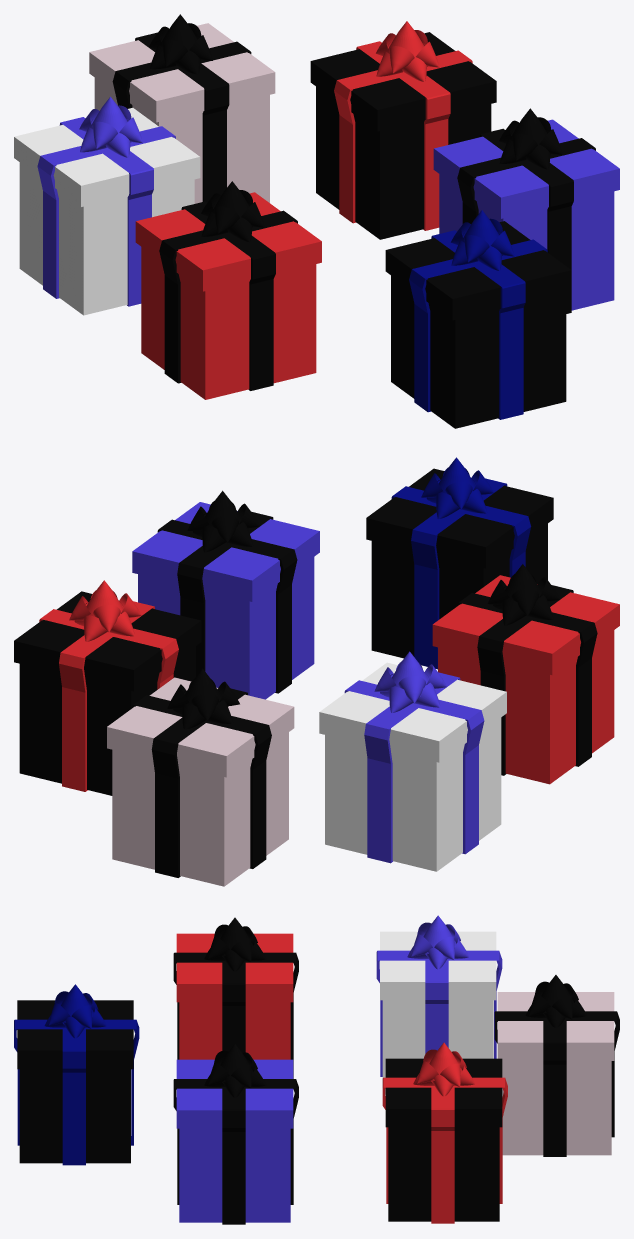
3 renders of one model, top to bottom at view 1: azimuth 30°, elevation 25°; view 2: azimuth 150°, elevation 25°; view 3: azimuth 270°, elevation 25°, orthographic. The views are drawn at different scales.
Visible parts, largest first — view 1: box.004, box.005, box.001, box.002, box.003, box, link.005, link.004, link.001, link.002, link, link.003 (+6 smaller); view 2: box, box.002, box.004, box.003, box.001, box.005, link.002, link, link.005, link.001, link.003, link.004 (+6 smaller); view 3: box.003, box.001, box.005, box, box.002, box.004, link.001, link.005, link.003, link, link.004, link.002 (+6 smaller).
Boxes of the visible parts, <box> form: box.004: <box>135,192,321,399</box>; box.005: <box>385,221,571,428</box>; box.001: <box>310,32,496,239</box>; box.002: <box>14,107,200,315</box>; box.003: <box>433,119,619,310</box>; box: <box>89,23,275,203</box>; link.005: <box>409,230,547,419</box>; link.004: <box>159,201,297,390</box>; link.001: <box>334,41,472,230</box>; link.002: <box>37,117,175,306</box>; link: <box>112,32,251,202</box>; link.003: <box>457,128,595,313</box>; box: <box>107,677,294,886</box>; box.002: <box>319,662,506,871</box>; box.004: <box>432,575,619,784</box>; box.003: <box>132,502,319,699</box>; box.001: <box>14,591,201,795</box>; box.005: <box>366,468,553,658</box>; link.002: <box>344,672,484,863</box>; link: <box>132,688,271,877</box>; link.005: <box>391,478,531,669</box>; link.001: <box>39,601,178,791</box>; link.003: <box>157,511,297,693</box>; link.004: <box>458,585,597,775</box>; box.003: <box>176,1059,293,1222</box>; box.001: <box>385,1058,502,1221</box>; box.005: <box>17,1000,133,1163</box>; box: <box>497,992,614,1155</box>; box.002: <box>380,931,496,1094</box>; box.004: <box>176,933,293,1059</box>; link.001: <box>382,1077,507,1223</box>; link.005: <box>14,1019,139,1165</box>; link.003: <box>173,1079,298,1224</box>; link: <box>494,1011,619,1156</box>; link.004: <box>173,952,298,1078</box>; link.002: <box>376,950,502,1076</box>.
Bounding box in the file's own units: 7.71 × 3.14 × 10.89.
